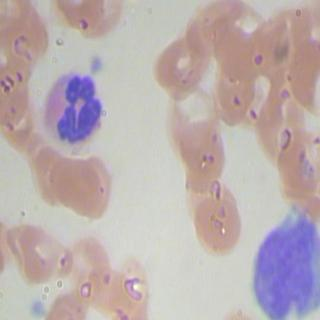Platelets: (88, 50, 105, 76), (30, 294, 47, 320)
RBC: (253, 84, 311, 162), (15, 138, 79, 204), (183, 190, 247, 256), (43, 148, 106, 214), (173, 116, 236, 182), (148, 30, 211, 96), (8, 220, 72, 284), (53, 230, 117, 294), (208, 56, 255, 124), (2, 0, 49, 68), (282, 32, 320, 110), (0, 64, 38, 132)
WBC: (249, 202, 319, 320), (38, 70, 108, 152)
